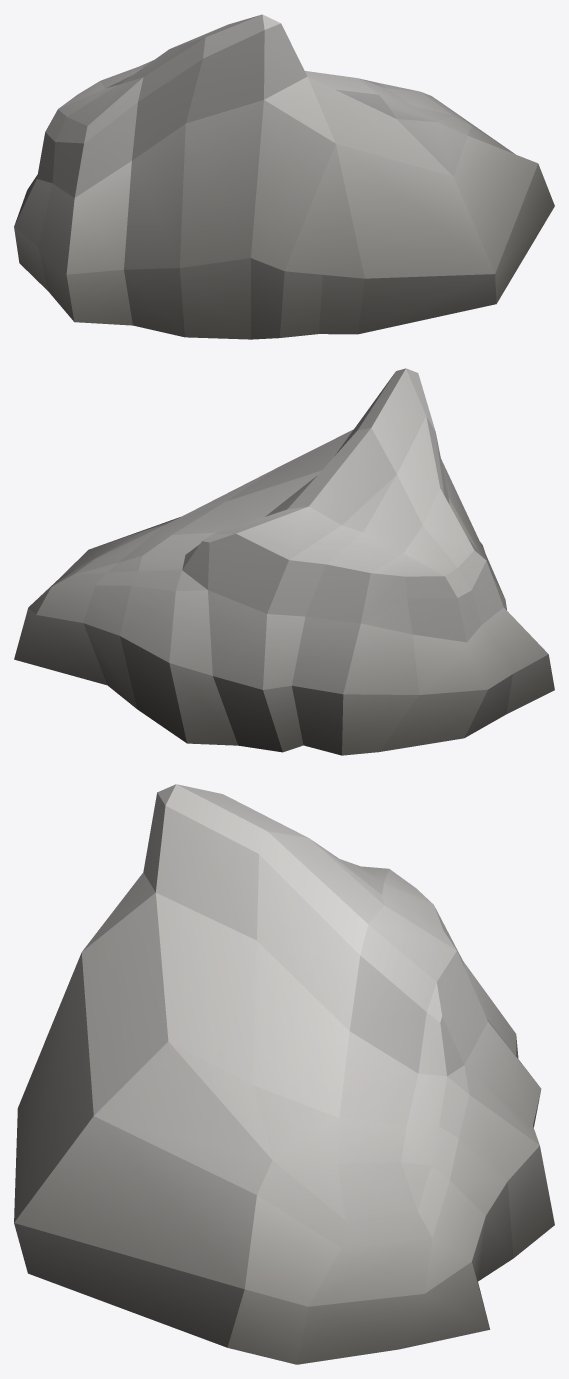
Rendered from Rock_Platform_Medium.fbx.
The picture shows the model from 3 angles, top to bottom: view 1: azimuth 30°, elevation 25°; view 2: azimuth 150°, elevation 25°; view 3: azimuth 270°, elevation 25°; orthographic projection. The views are drawn at different scales.
Visible parts, largest first — view 1: Rock_Platform_Medium; view 2: Rock_Platform_Medium; view 3: Rock_Platform_Medium.
Part boxes in pixels (box(x1,y1,x2,y2)): Rock_Platform_Medium: box(14, 14, 554, 339); Rock_Platform_Medium: box(14, 368, 554, 755); Rock_Platform_Medium: box(14, 784, 554, 1364).
Size of the model in its own units: 1683 by 979 by 1219.
